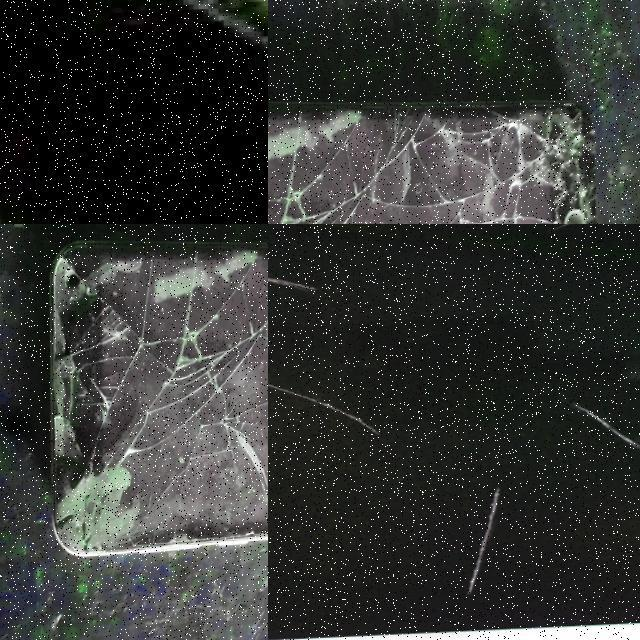scratch: (268, 369, 382, 446), (569, 403, 640, 469), (463, 492, 501, 598), (268, 266, 333, 303), (549, 224, 640, 239)
screen crack: (56, 225, 268, 566), (268, 85, 609, 224)
